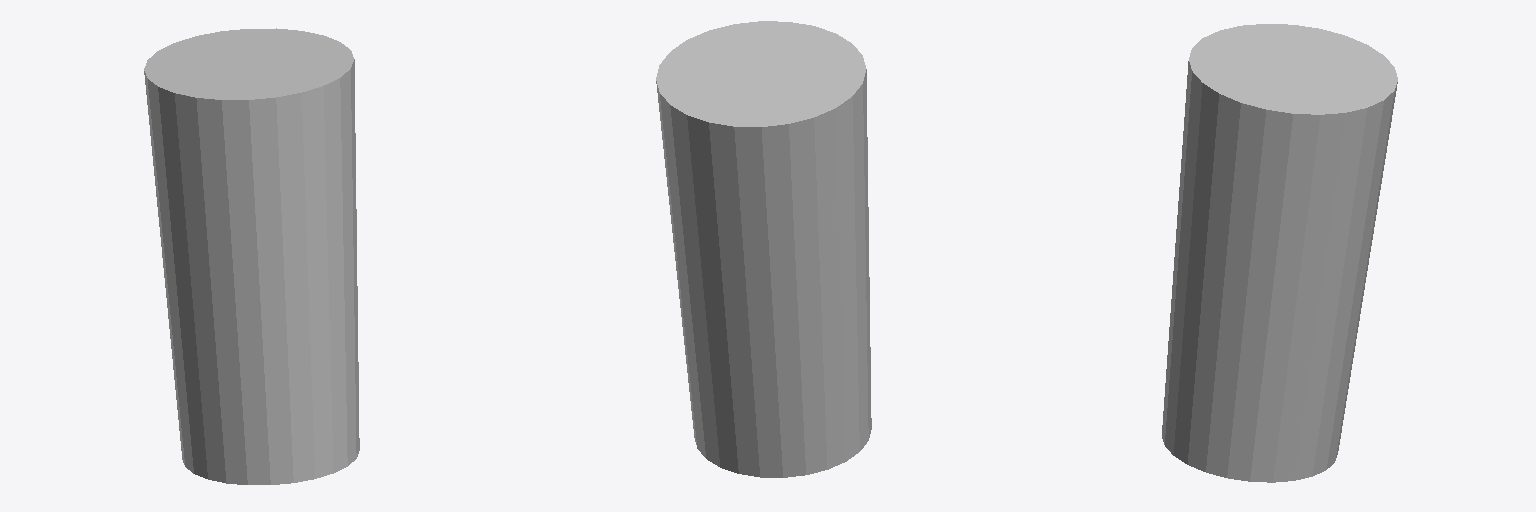
Rendered from Right Upper Leg.obj.
3 renders of one model, left to right at view 1: azimuth 30°, elevation 25°; view 2: azimuth 150°, elevation 25°; view 3: azimuth 270°, elevation 25°, orthographic.
Visible parts, largest first — view 1: Right_Upper_Leg_Sphere.012; view 2: Right_Upper_Leg_Sphere.012; view 3: Right_Upper_Leg_Sphere.012.
Part boxes in pixels (x1,y1,x2,y2): Right_Upper_Leg_Sphere.012: (144,28,359,484); Right_Upper_Leg_Sphere.012: (656,21,871,477); Right_Upper_Leg_Sphere.012: (1162,24,1397,482).
Bounding box in the file's own units: 0.76 × 1.56 × 0.853.